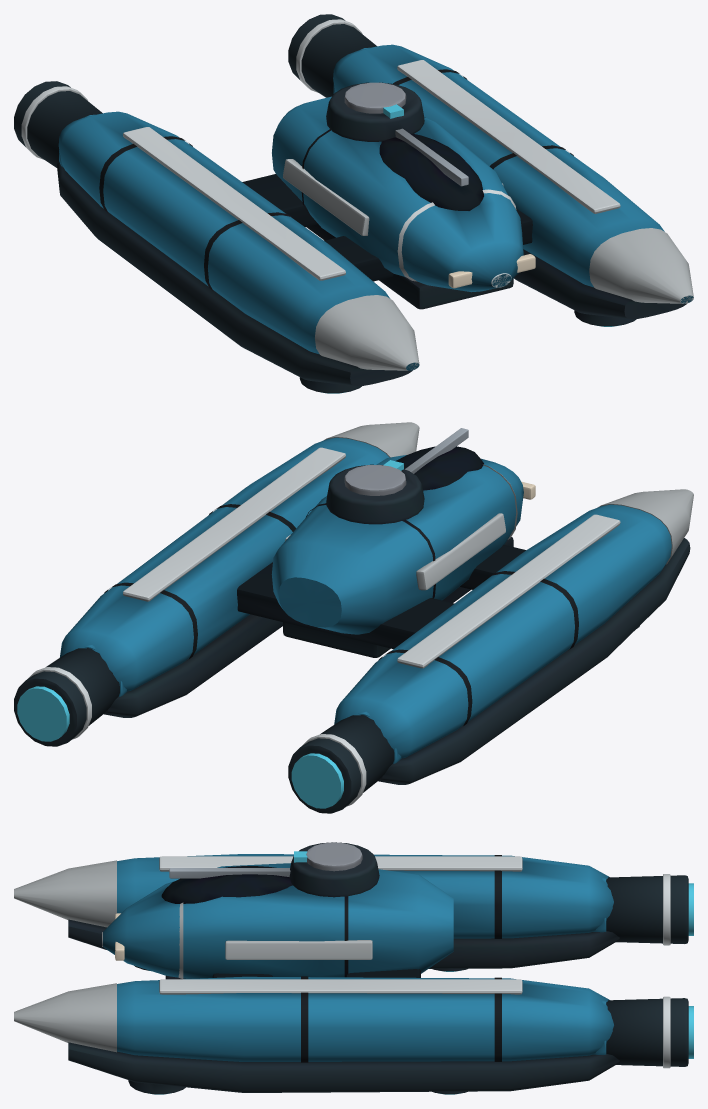
Rendered from ex_skiff_1.glb.
3 renders of one model, top to bottom at view 1: azimuth 30°, elevation 25°; view 2: azimuth 150°, elevation 25°; view 3: azimuth 270°, elevation 25°, orthographic. The views are drawn at different scales.
Parts seen in each view (by area): view 1: body; view 2: body; view 3: body.
Part boxes in pixels (x1,y1,x2,y2): body: [14, 14, 693, 393]; body: [14, 422, 693, 813]; body: [14, 842, 693, 1094].
Size of the model in its own units: 3.27 by 1.55 by 5.61.
